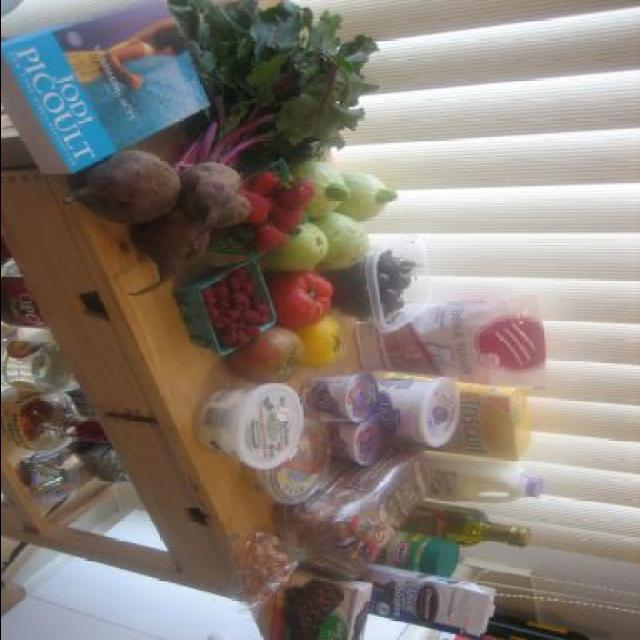Strawberry: (176, 268, 267, 352)
